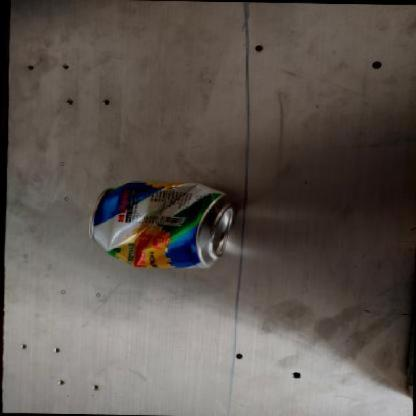Can: (92, 181, 236, 272)
